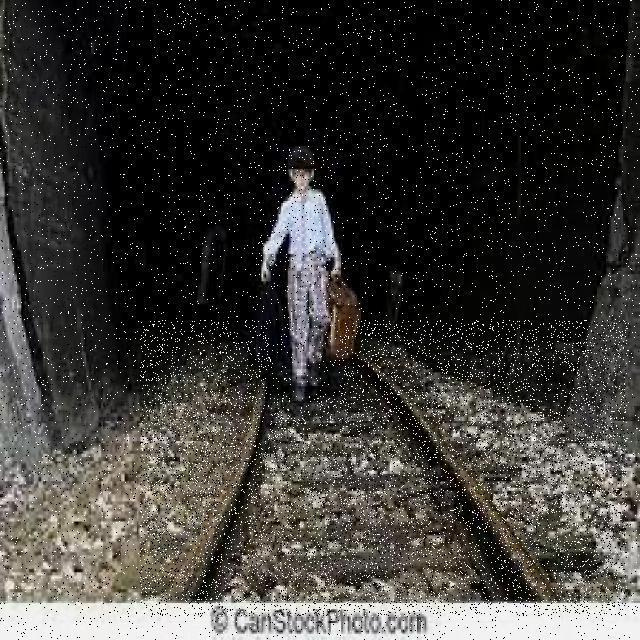danger: (271, 148, 338, 398)
rail: (140, 321, 627, 616)
